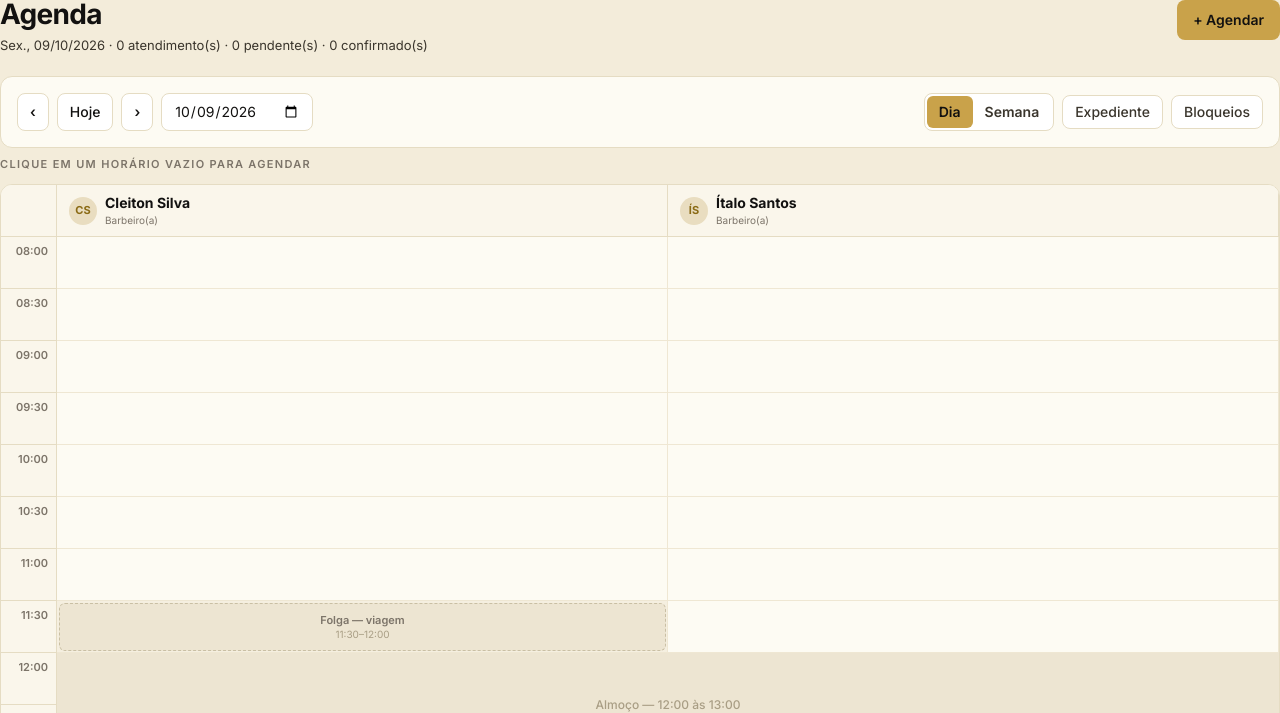
Test: Integração Agenda → NovoAgendamentoModal › horário coberto por bloqueio é recusado
Click the element named "Agendar 11:00 com Cleiton Silva" at [362, 575], box [57,549,668,601]
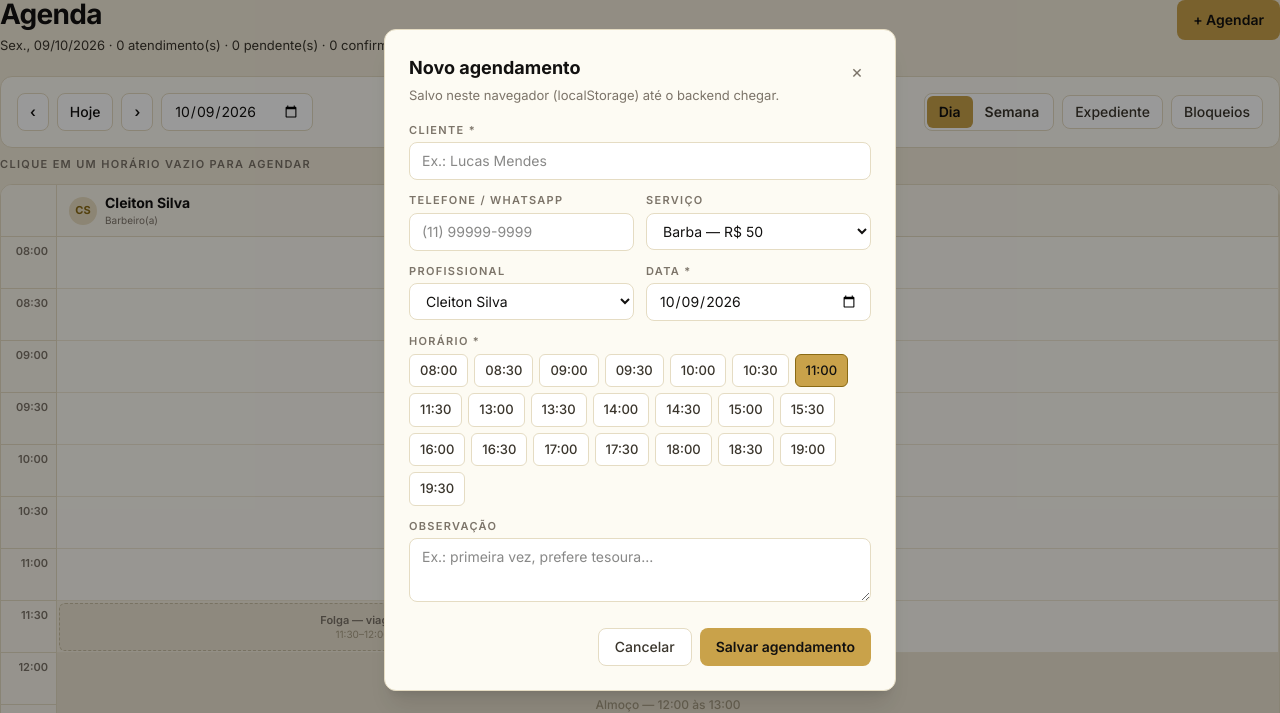
Type "Bruno Dias" into the field labelled "Cliente *" at [640, 161], box [409,142,871,180]
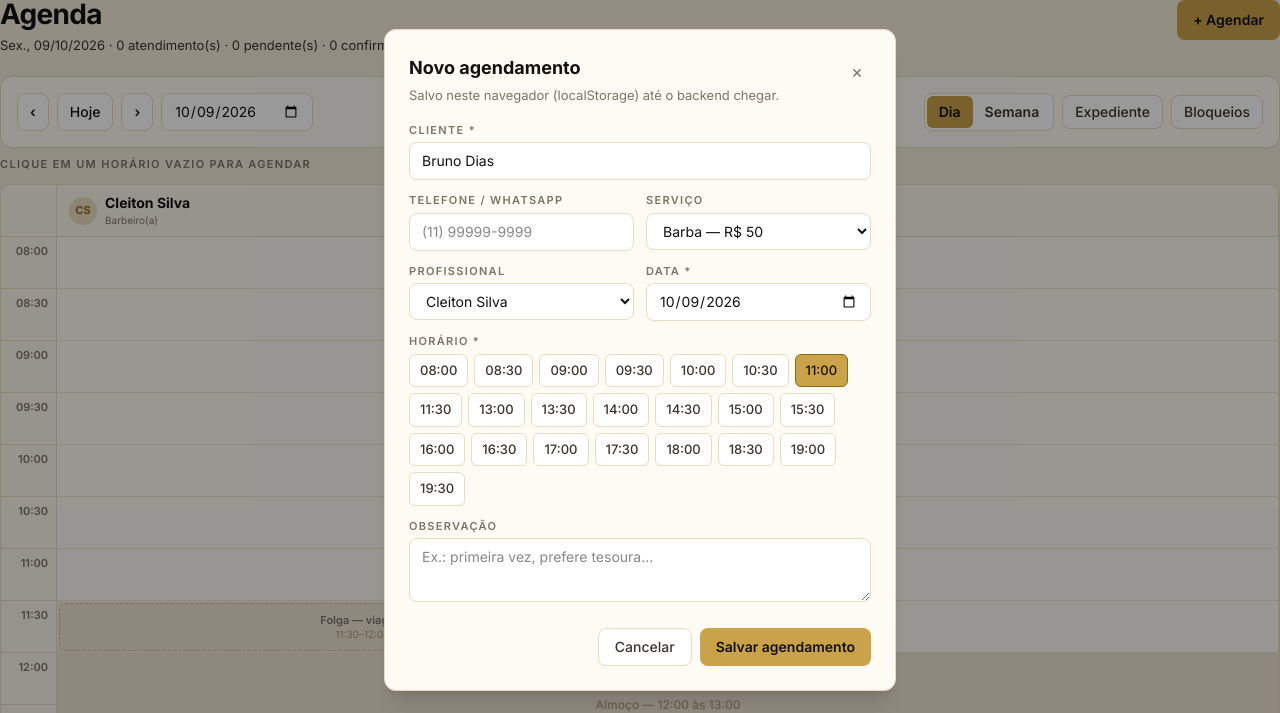
Select "Corte Degradê — R$ 70" in the dropdown labelled "Serviço" at [758, 231], box [646,212,871,250]
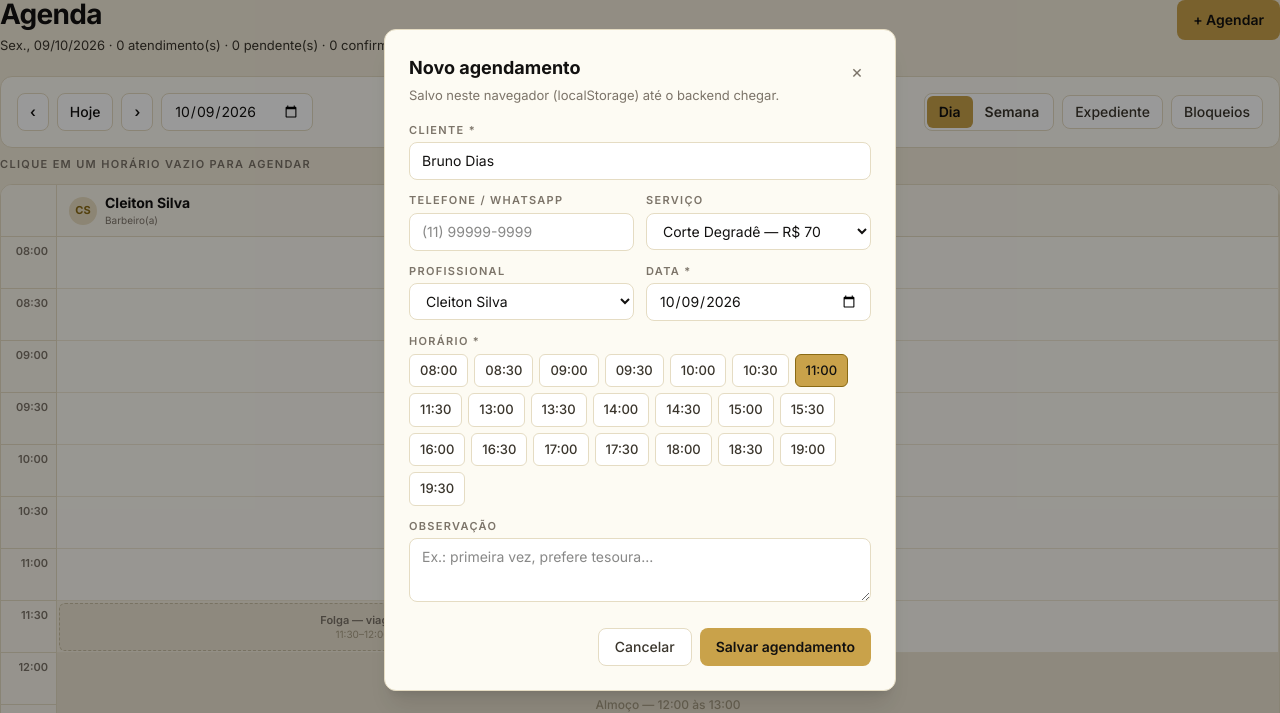
Click the button "Salvar agendamento" at [785, 647], box [700,628,871,666]
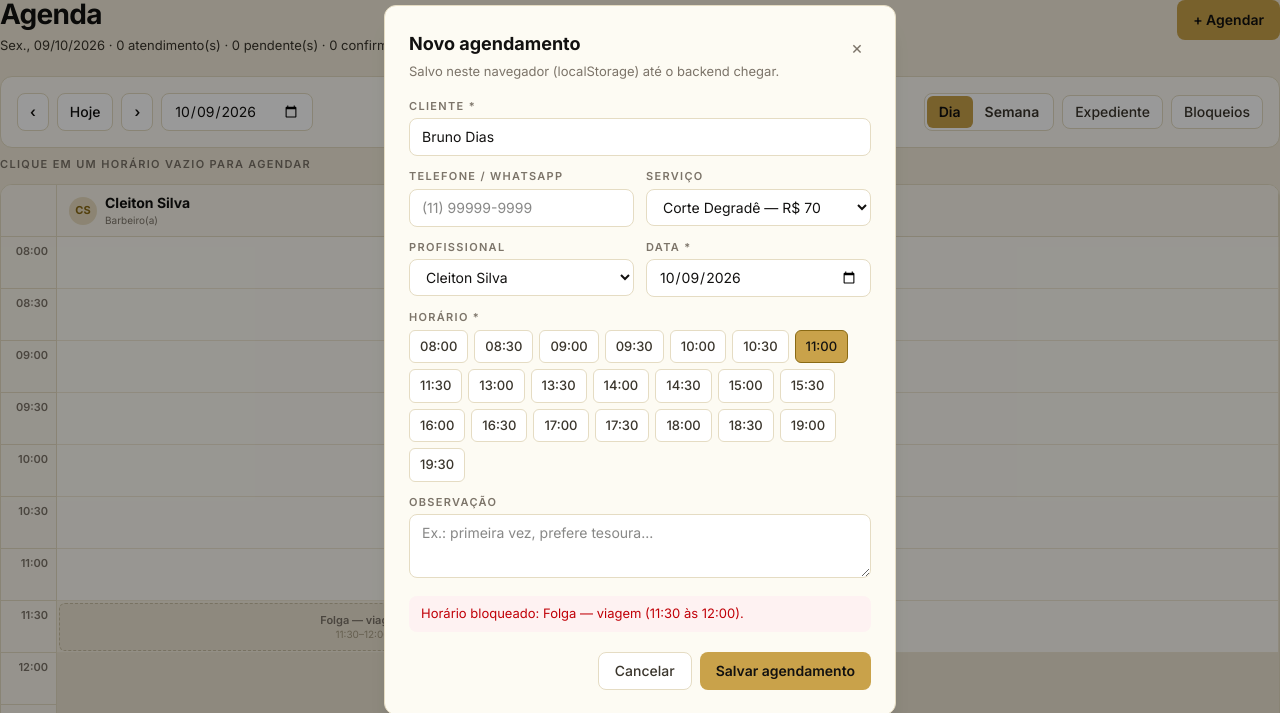
Result: the text "Horário bloqueado: Folga — viagem (11:30 às 12:00)." is shown at [409,596,871,632]
